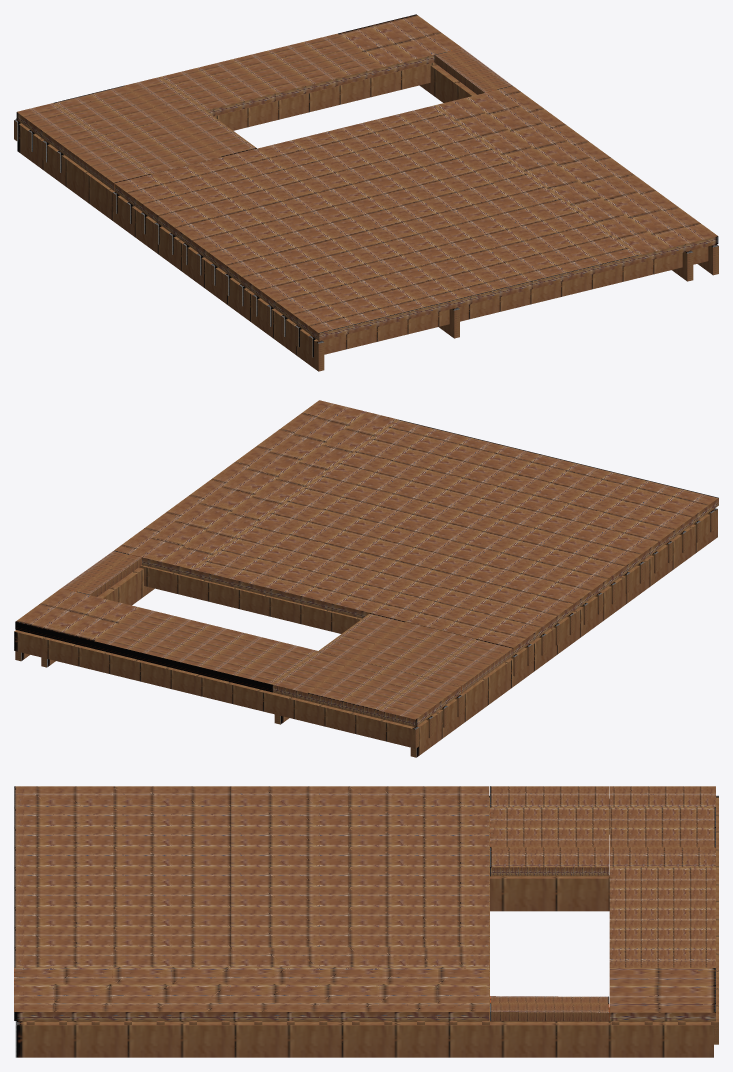
File: BasementRoofContainer.fbx
3 views of the same model, one above another, from view 1: azimuth 30°, elevation 25°; view 2: azimuth 150°, elevation 25°; view 3: azimuth 270°, elevation 25° (orthographic). The views are drawn at different scales.
Parts seen in each view (by area): view 1: BasementRoof, BasementRoof_LeftAberture, TableColumns, TopBasementAberture, TableRows, TableRow1, BottomBasementAberture, TableColumn1; view 2: BasementRoof, BasementRoof_LeftAberture, TableRow4, TableColumns, TopBasementAberture, TableRows, BottomBasementAberture, TableColumn1; view 3: BasementRoof, TableColumns, BasementRoof_LeftAberture, TopBasementAberture, BottomBasementAberture, TableRow4, TableRows, TableColumn1.
Part boxes in pixels (x1,y1,x2,y2): BasementRoof: (114, 86, 718, 341); BasementRoof_LeftAberture: (16, 14, 461, 152); TableColumns: (17, 123, 718, 371); TopBasementAberture: (62, 110, 256, 190); TableRows: (112, 192, 708, 357); TableRow1: (57, 62, 435, 172); BottomBasementAberture: (434, 48, 512, 94); TableColumn1: (419, 64, 693, 281); BasementRoof: (114, 400, 718, 655); BasementRoof_LeftAberture: (15, 588, 461, 727); TableRow4: (14, 630, 418, 748); TableColumns: (15, 508, 717, 757); TopBasementAberture: (319, 613, 513, 693); TableRows: (139, 510, 714, 676); BottomBasementAberture: (61, 551, 141, 596); TableColumn1: (41, 567, 154, 667); BasementRoof: (14, 786, 489, 1020); TableColumns: (15, 799, 713, 1057); BasementRoof_LeftAberture: (609, 786, 715, 1021); TopBasementAberture: (490, 786, 609, 876); BottomBasementAberture: (490, 996, 609, 1021); TableRow4: (711, 795, 718, 1044); TableRows: (26, 795, 489, 1024); TableColumn1: (15, 1007, 710, 1021).
Size of the model in its own units: 373 by 34.33 by 488.
